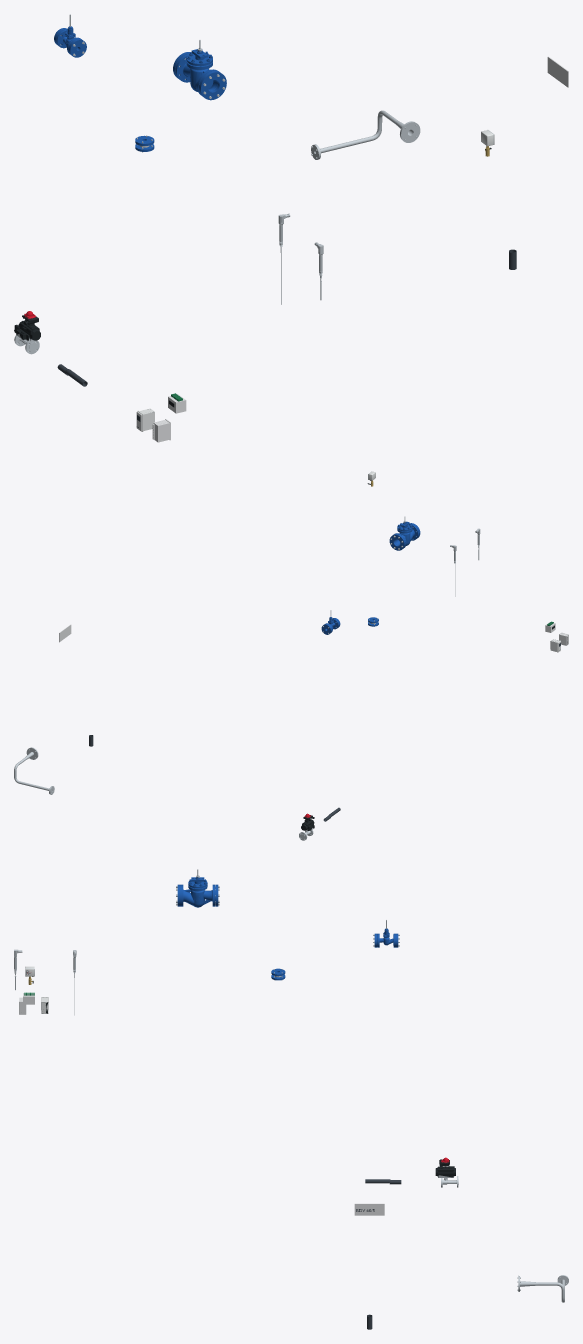
The model's file is s4000-1-iuM6Ua45.glb.
The picture shows the model from 3 angles, top to bottom: view 1: azimuth 30°, elevation 25°; view 2: azimuth 150°, elevation 25°; view 3: azimuth 270°, elevation 25°; orthographic projection. The views are drawn at different scales.
Parts seen in each view (by area): view 1: gpz CAD solid 0, fv_to_trap_gap / steel, bcv7432 / bcv7432_0.npz, gpz / blue; view 2: no part large enough to name; view 3: gpz CAD solid 0.
Part boxes in pixels (box(x1,y1,x2,y2)): gpz CAD solid 0: box(175, 40, 219, 95); fv_to_trap_gap / steel: box(311, 110, 420, 159); bcv7432 / bcv7432_0.npz: box(14, 311, 40, 354); gpz / blue: box(173, 52, 226, 100); gpz CAD solid 0: box(180, 869, 215, 907).
Bounding box in the file's own units: 5.45 × 3.53 × 5.59.
